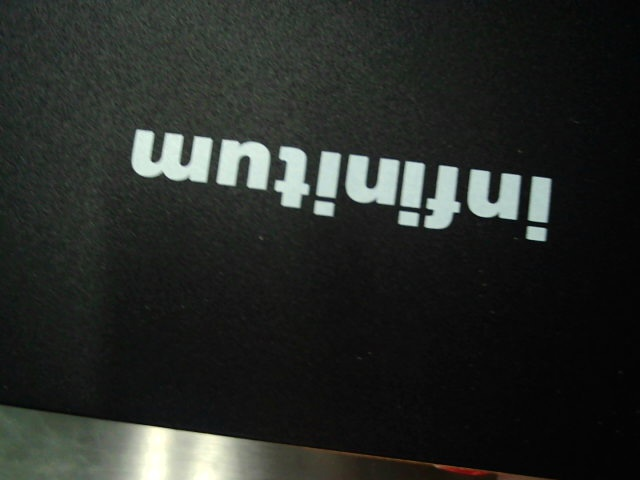BK_infinitum: (123, 119, 555, 246)
